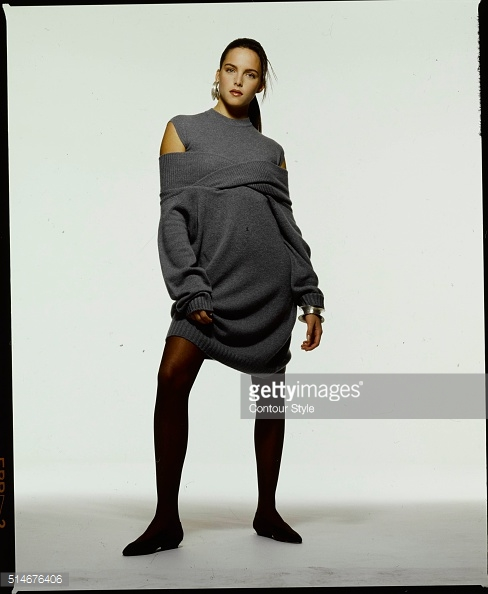em pe: (119, 18, 311, 537)
